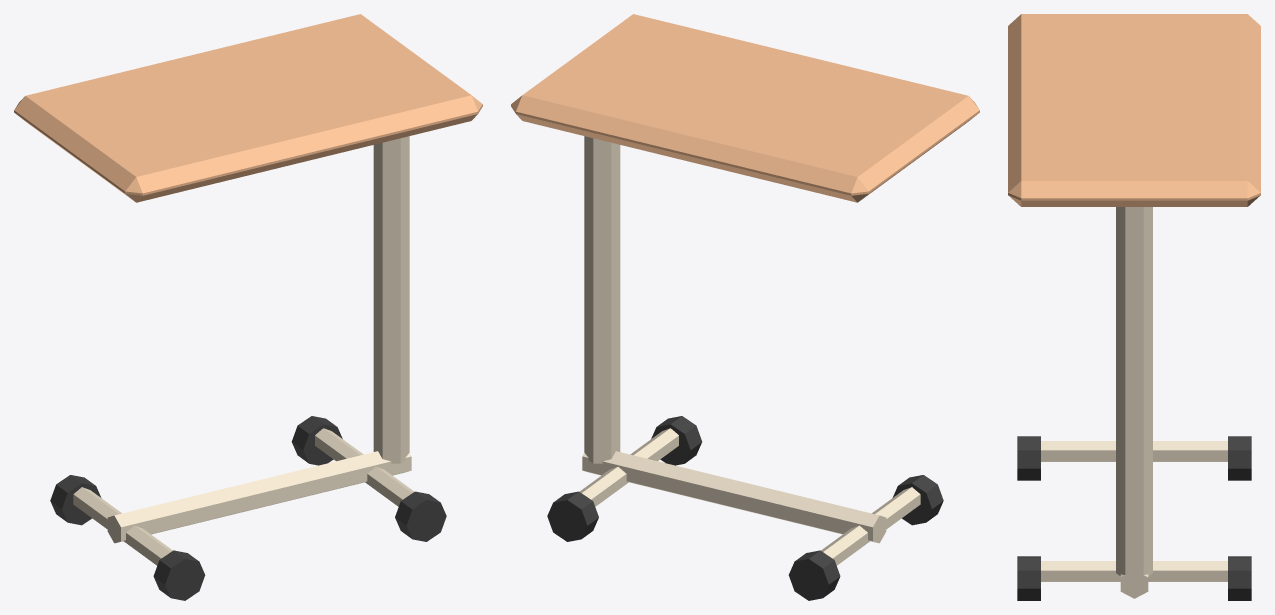
3 renders of one model, left to right at view 1: azimuth 30°, elevation 25°; view 2: azimuth 150°, elevation 25°; view 3: azimuth 270°, elevation 25°, orthographic. The views are drawn at different scales.
Parts seen in each view (by area): view 1: Table top, Side post, Base rail, Foot, Wheel.002, Wheel, Foot.001, Wheel.001, Wheel.003; view 2: Table top, Side post, Base rail, Foot, Wheel.003, Wheel.001, Foot.001, Wheel, Wheel.002; view 3: Table top, Side post, Foot.001, Foot, Wheel, Wheel.001, Wheel.002, Wheel.003, Base rail.
Part boxes in pixels (box(x1,y1,x2,y2)): Table top: box(14, 14, 482, 202); Side post: box(373, 136, 409, 463); Base rail: box(107, 451, 411, 543); Foot: box(73, 487, 172, 565); Wheel.002: box(395, 491, 446, 541); Wheel: box(153, 550, 205, 600); Foot.001: box(315, 428, 414, 506); Wheel.001: box(50, 475, 101, 525); Wheel.003: box(291, 416, 342, 465); Table top: box(511, 14, 979, 202); Side post: box(584, 136, 620, 463); Base rail: box(582, 451, 886, 543); Foot: box(821, 487, 920, 565); Wheel.003: box(547, 491, 598, 541); Wheel.001: box(788, 550, 840, 600); Foot.001: box(579, 428, 678, 506); Wheel: box(892, 475, 943, 525); Wheel.002: box(651, 416, 702, 465); Table top: box(1008, 14, 1260, 206); Side post: box(1116, 207, 1152, 579); Foot.001: box(1041, 561, 1227, 581); Foot: box(1041, 441, 1227, 461); Wheel: box(1017, 436, 1040, 480); Wheel.001: box(1228, 436, 1251, 480); Wheel.002: box(1017, 556, 1040, 600); Wheel.003: box(1228, 556, 1251, 600); Base rail: box(1120, 574, 1148, 598).
Size of the model in its own units: 0.8 by 0.9275 by 0.48.
Materials: 1 (1 with a texture image).
